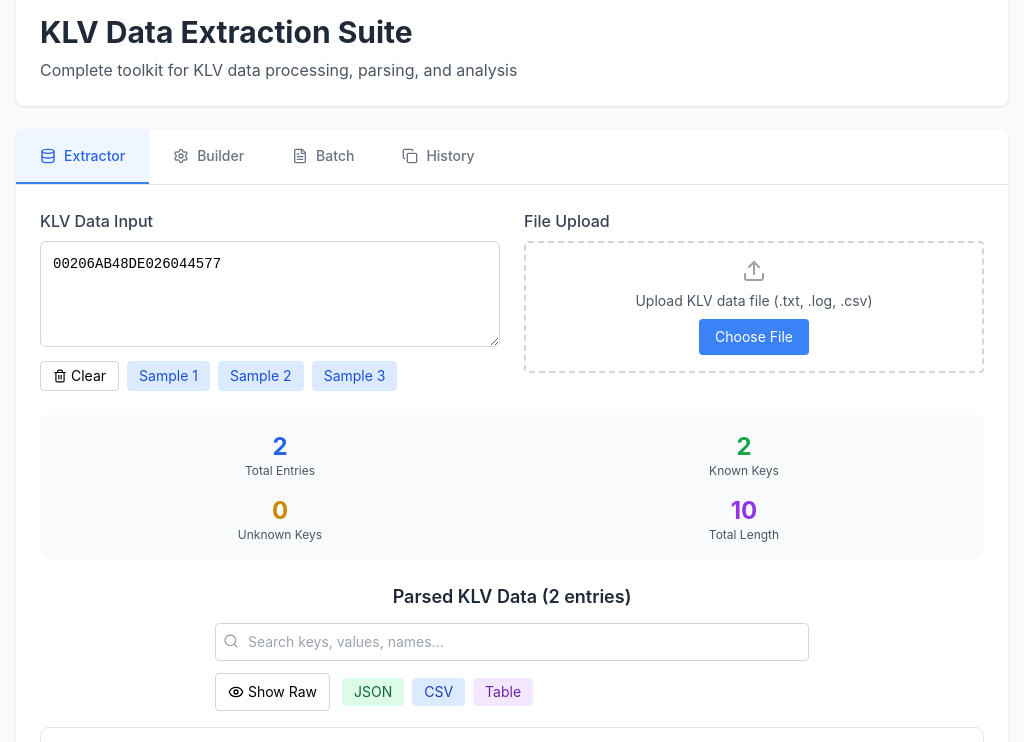
App Integration Tests › KLV Parsing Integration › should update results when KLV input changes
Replace the text in the text box with placeholder "Enter KLV data (e.g., 00206AB48DE026044577)..." with "00206AB48DE026044577042044TEST" at (270, 294), box left=40, top=241, right=500, bottom=347
(page scrolled)
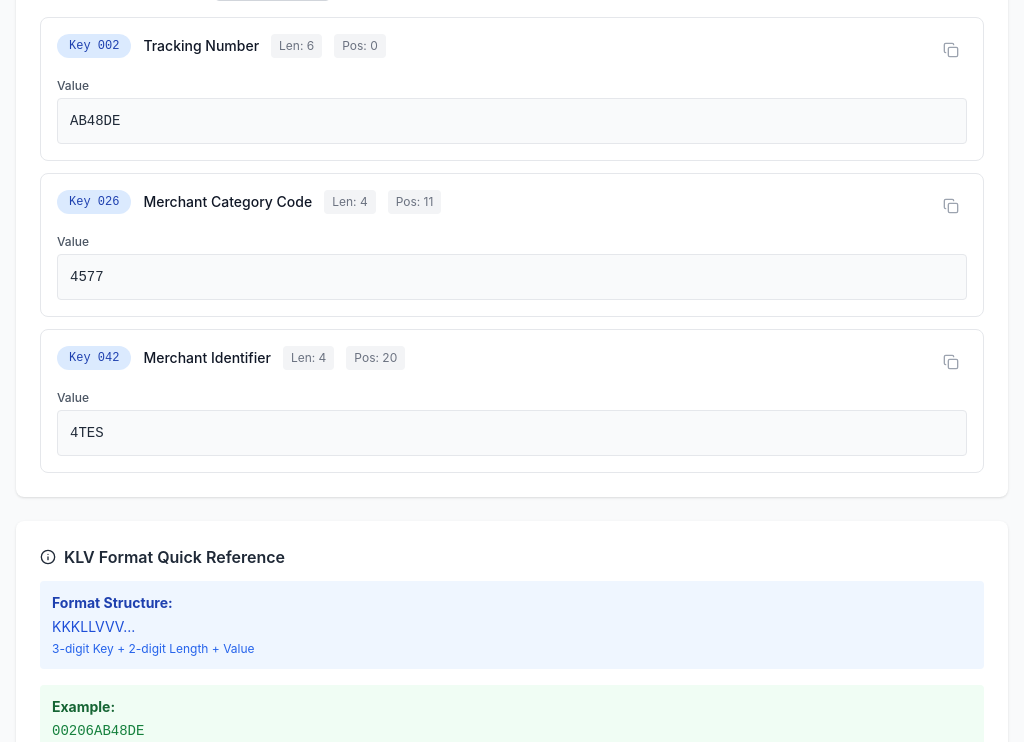
Now the text "Key 002" is shown, box left=57, top=34, right=131, bottom=58
Now the text "Key 026" is shown, box left=57, top=190, right=131, bottom=214
Now the text "Key 042" is shown, box left=57, top=346, right=131, bottom=370
